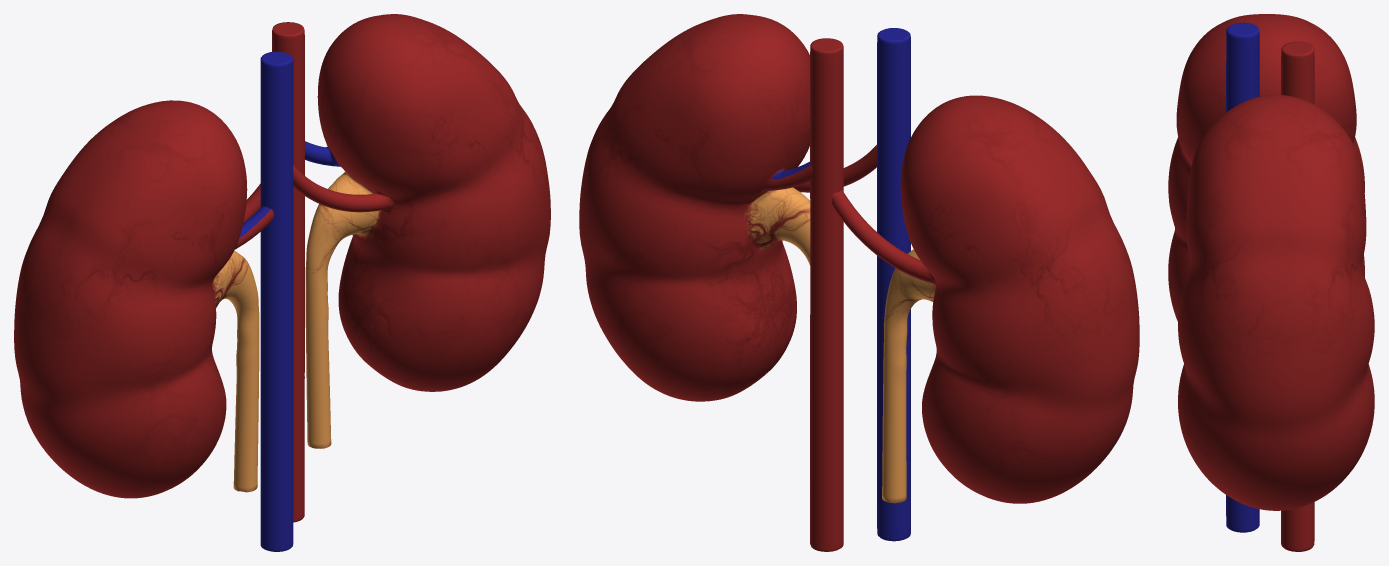
The model's file is Kidney.fbx.
The picture shows the model from 3 angles, left to right: view 1: azimuth 30°, elevation 25°; view 2: azimuth 150°, elevation 25°; view 3: azimuth 270°, elevation 25°; orthographic projection. The views are drawn at different scales.
Visible parts, largest first — view 1: kidney02:kidney03:Group12708, Group12708; view 2: kidney02:kidney03:Group12708, Group12708; view 3: Group12708, kidney02:kidney03:Group12708.
Part boxes in pixels (box(x1,y1,x2,y2)): kidney02:kidney03:Group12708: box(14, 22, 304, 551); Group12708: box(293, 14, 550, 448); kidney02:kidney03:Group12708: box(810, 28, 1139, 551); Group12708: box(579, 14, 876, 401); Group12708: box(1178, 94, 1374, 510); kidney02:kidney03:Group12708: box(1168, 14, 1364, 551).
Bounding box in the file's own units: 473 × 426 × 160.
1 material, 1 textured.
